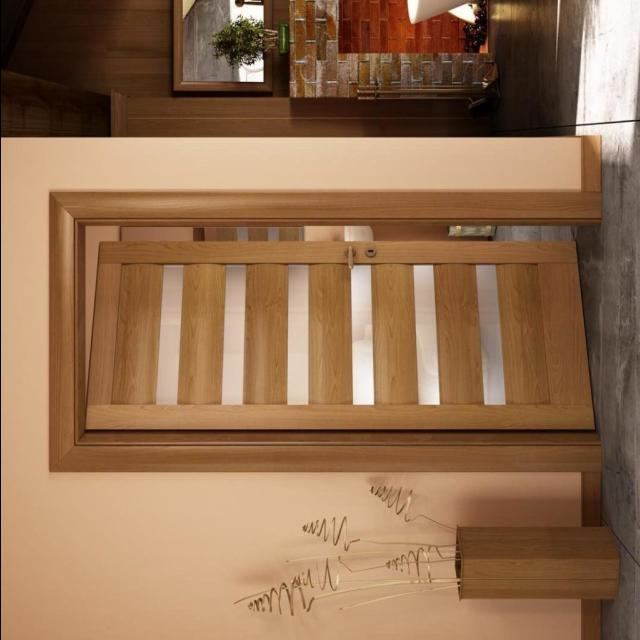open: (81, 218, 590, 443)
